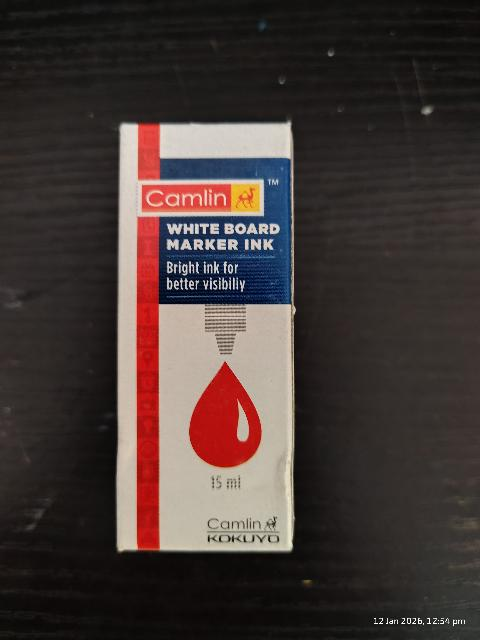camlin marker ink: (117, 122, 291, 552)
